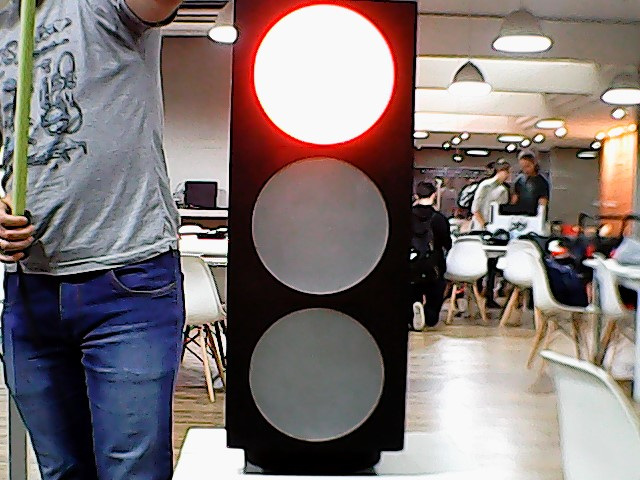vermelho: (225, 1, 418, 477)
